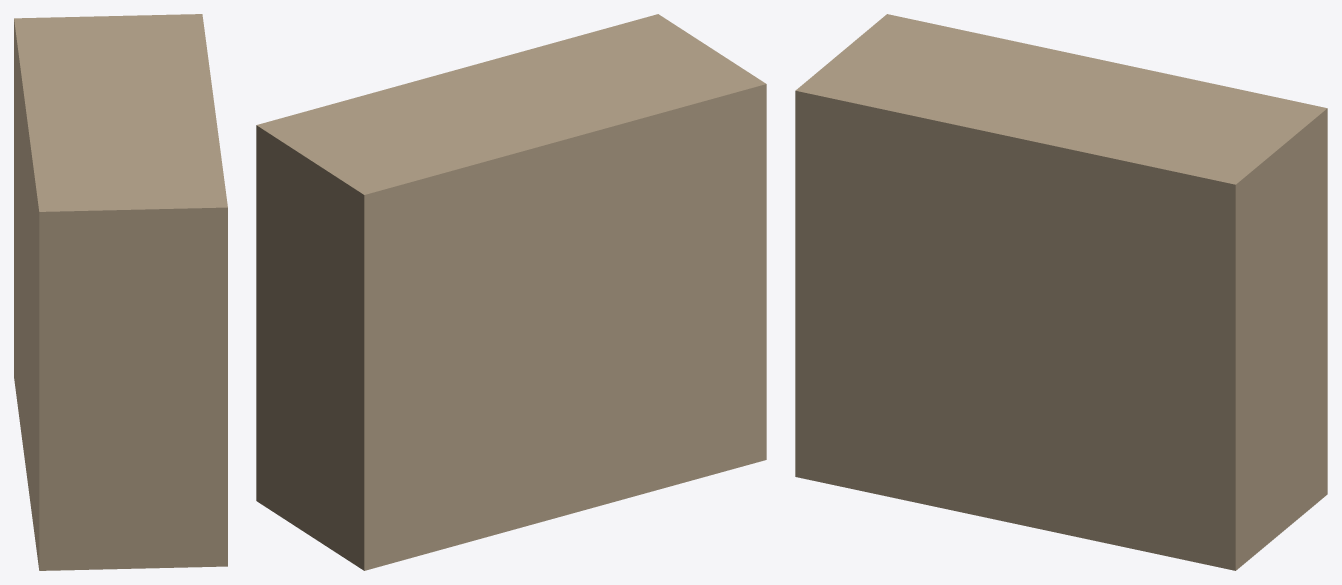
The model's file is bld_108400916.dae.
The picture shows the model from 3 angles, left to right: view 1: azimuth 30°, elevation 25°; view 2: azimuth 150°, elevation 25°; view 3: azimuth 270°, elevation 25°; orthographic projection. The views are drawn at different scales.
Visible parts, largest first — view 1: bld_108400916; view 2: bld_108400916; view 3: bld_108400916.
Part boxes in pixels (bbox=[...]): bld_108400916: bbox=[14, 14, 227, 570]; bld_108400916: bbox=[256, 14, 766, 570]; bld_108400916: bbox=[795, 14, 1327, 570].
Bounding box in the file's own units: 7.58 × 9.99 × 8.
